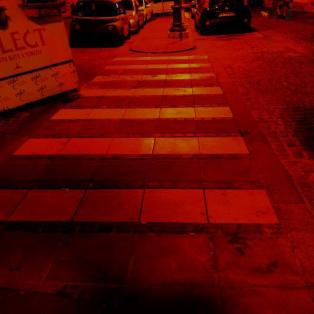Paso de Cebra: (11, 105, 254, 162), (76, 72, 230, 99)
